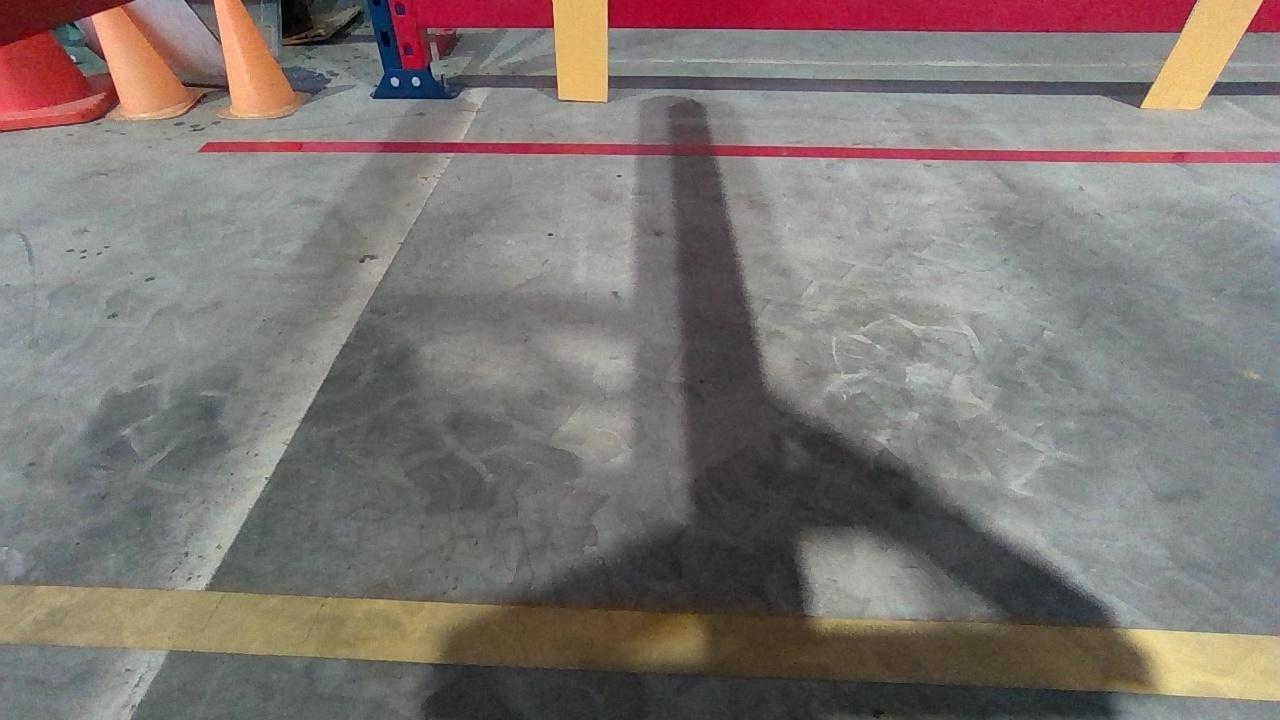h_rack: (414, 0, 1280, 33)
orange_strip: (1139, 0, 1271, 107), (550, 0, 608, 100)
red_line: (200, 137, 1277, 164)
yellow_line: (0, 587, 1280, 704)
